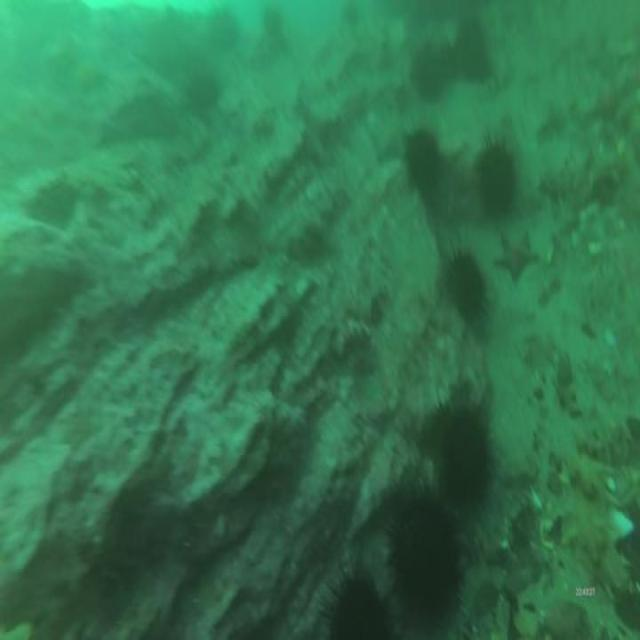echinus: (383, 479, 466, 630), (427, 387, 497, 514), (316, 556, 394, 640), (471, 130, 520, 228), (440, 237, 489, 327), (399, 119, 445, 202), (408, 38, 452, 109), (452, 16, 494, 87), (206, 0, 244, 62), (184, 66, 222, 117), (260, 5, 287, 46), (336, 0, 364, 32)
holothurian: (543, 485, 631, 599), (513, 567, 632, 640), (558, 439, 620, 514), (535, 158, 596, 204)
starfish: (490, 226, 545, 288)
